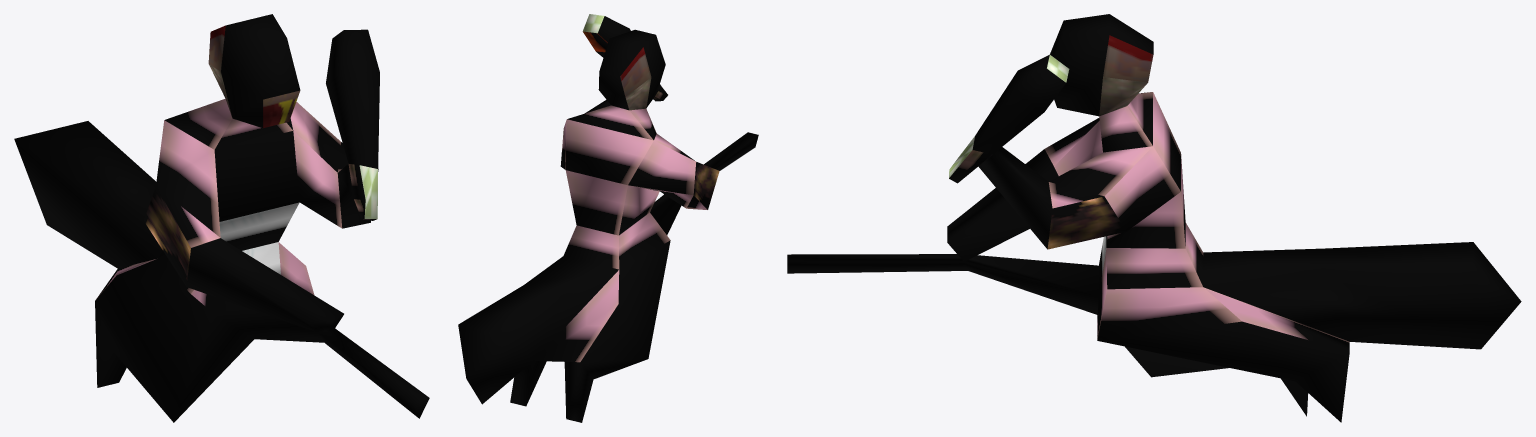
The picture shows the model from 3 angles, left to right: view 1: azimuth 30°, elevation 25°; view 2: azimuth 150°, elevation 25°; view 3: azimuth 270°, elevation 25°; orthographic projection. The views are drawn at different scales.
Visible parts, largest first — view 1: T1L9M001_19; view 2: T1L9M001_19; view 3: T1L9M001_19.
Boxes of the visible parts, x1,y1,x2,y2 form: T1L9M001_19: (14, 14, 429, 422); T1L9M001_19: (458, 14, 758, 422); T1L9M001_19: (787, 14, 1521, 422).
Bounding box in the file's own units: 0.5391 × 1.13 × 1.87.
